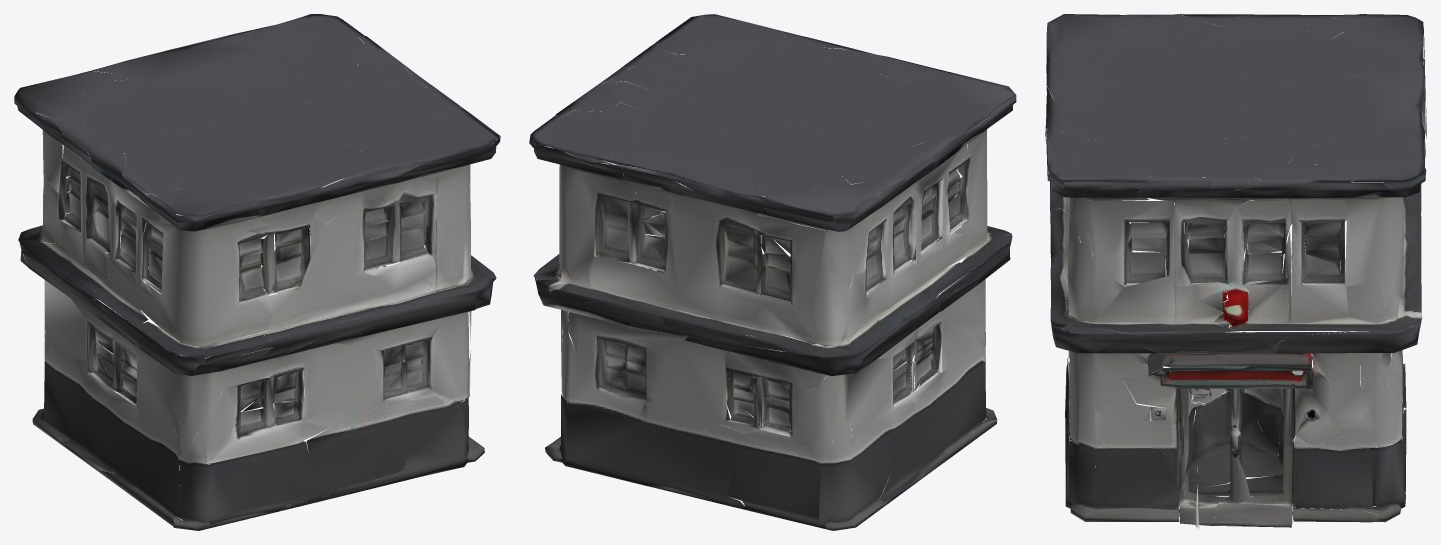
File: koban.glb
3 renders of one model, left to right at view 1: azimuth 30°, elevation 25°; view 2: azimuth 150°, elevation 25°; view 3: azimuth 270°, elevation 25°, orthographic. The views are drawn at different scales.
Visible parts, largest first — view 1: tripo_node_91d48ff9-df12-49ba-b636-f9f11f1fd669; view 2: tripo_node_91d48ff9-df12-49ba-b636-f9f11f1fd669; view 3: tripo_node_91d48ff9-df12-49ba-b636-f9f11f1fd669.
Boxes of the visible parts, x1=… form: tripo_node_91d48ff9-df12-49ba-b636-f9f11f1fd669: x1=14, y1=14, x2=500, y2=530; tripo_node_91d48ff9-df12-49ba-b636-f9f11f1fd669: x1=529, y1=14, x2=1016, y2=530; tripo_node_91d48ff9-df12-49ba-b636-f9f11f1fd669: x1=1045, y1=14, x2=1426, y2=530.
Bounding box in the file's own units: 5.84 × 5 × 5.02.
Materials: 1 (1 with a texture image).
